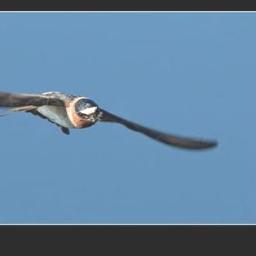Swallow: (0, 76, 221, 149)
